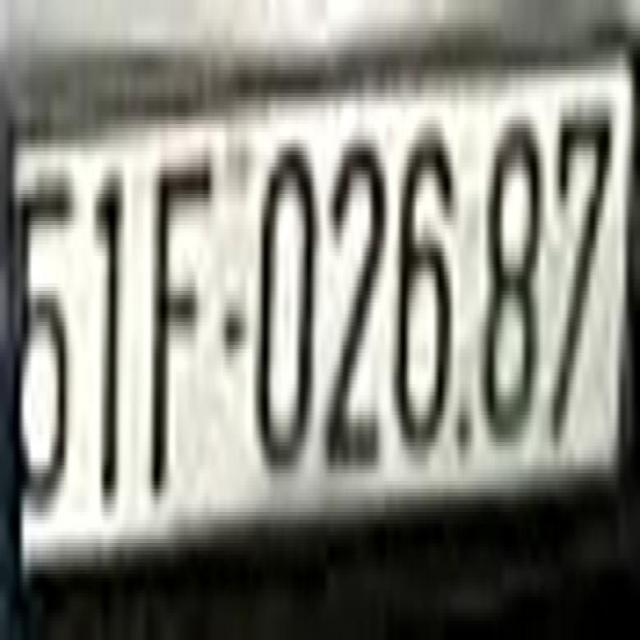0: (261, 140, 310, 458)
1: (92, 140, 126, 524)
2: (330, 120, 384, 466)
5: (16, 178, 74, 520)
6: (401, 124, 454, 458)
7: (550, 101, 612, 458)
8: (486, 100, 535, 434)
F: (152, 148, 210, 500)
